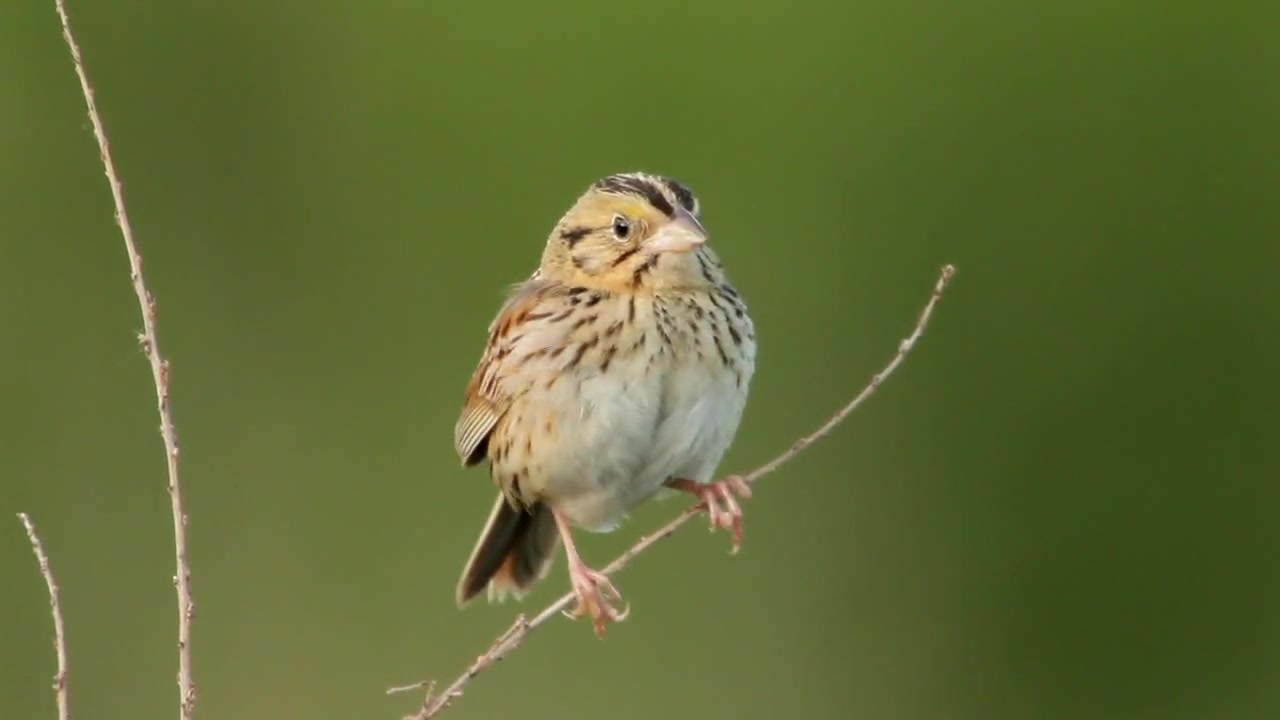bird: (454, 170, 761, 645)
